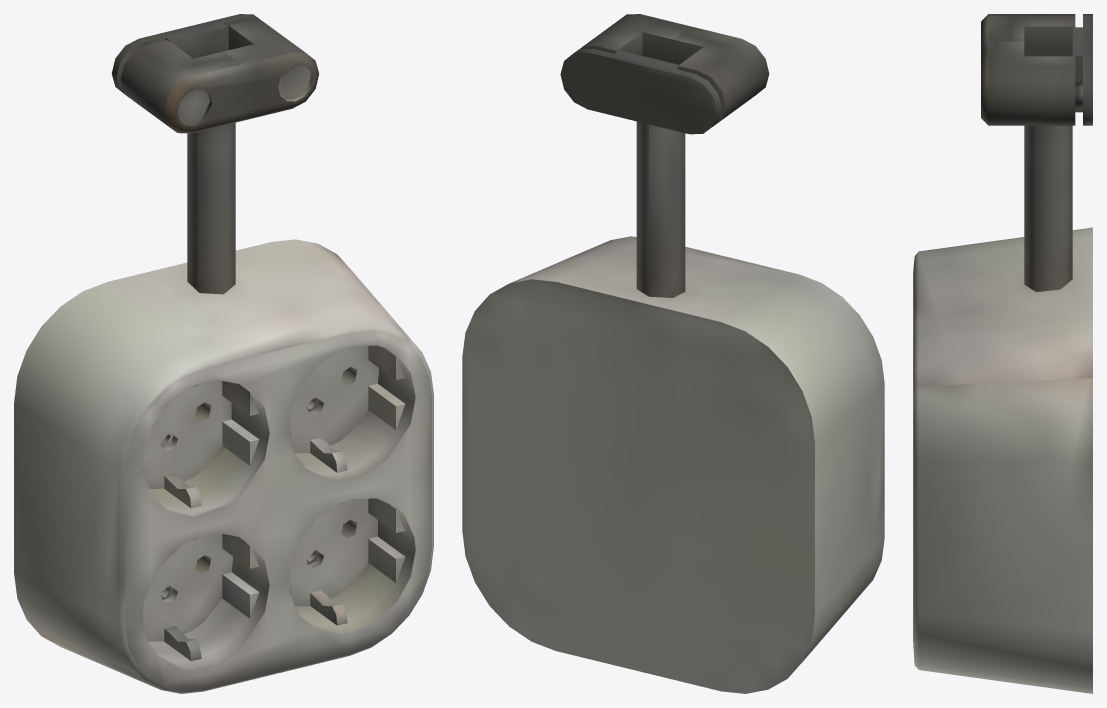
File: wall-switch--4.gltf
3 renders of one model, left to right at view 1: azimuth 30°, elevation 25°; view 2: azimuth 150°, elevation 25°; view 3: azimuth 270°, elevation 25°, orthographic.
Visible parts, largest first — view 1: cable_plug_4x; view 2: cable_plug_4x; view 3: cable_plug_4x.
Boxes of the visible parts, x1,y1,x2,y2 form: cable_plug_4x: (14, 14, 433, 693); cable_plug_4x: (462, 14, 884, 693); cable_plug_4x: (913, 14, 1092, 693).
Size of the model in its own units: 0.0939 by 0.1542 by 0.0417.
1 material, 1 textured.
